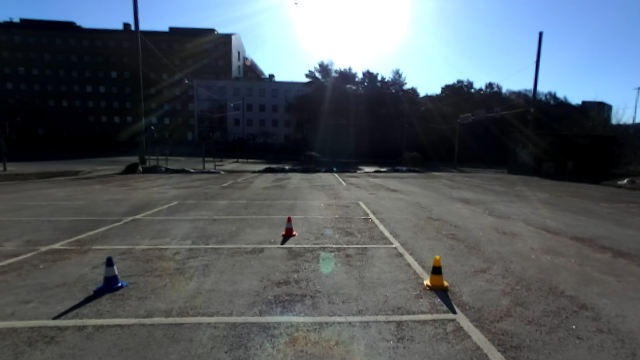blue: (93, 254, 129, 291)
orange: (279, 214, 298, 239)
yellow: (420, 252, 451, 290)
